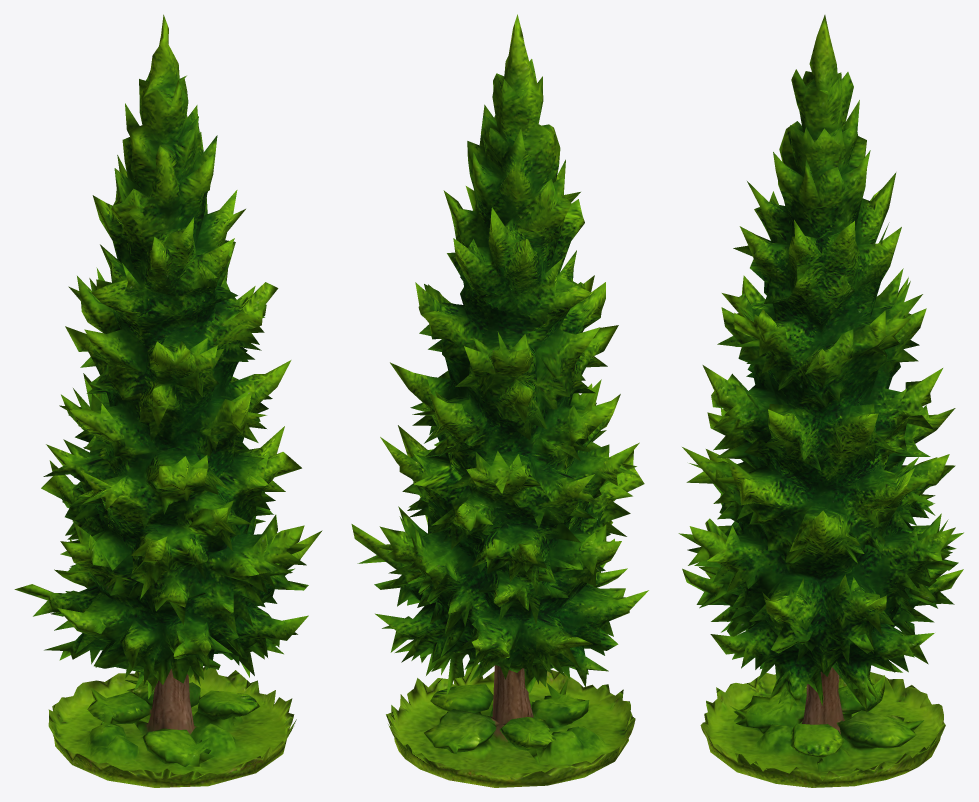
File: roadsidesharptree.glb
3 renders of one model, left to right at view 1: azimuth 30°, elevation 25°; view 2: azimuth 150°, elevation 25°; view 3: azimuth 270°, elevation 25°, orthographic.
Visible parts, largest first — view 1: tripo_node_1987e0e3-b7dc-4436-a825-5527ffc365ff; view 2: tripo_node_1987e0e3-b7dc-4436-a825-5527ffc365ff; view 3: tripo_node_1987e0e3-b7dc-4436-a825-5527ffc365ff.
Part boxes in pixels (<box>): tripo_node_1987e0e3-b7dc-4436-a825-5527ffc365ff: <box>14,14,322,787</box>; tripo_node_1987e0e3-b7dc-4436-a825-5527ffc365ff: <box>351,14,648,787</box>; tripo_node_1987e0e3-b7dc-4436-a825-5527ffc365ff: <box>678,15,963,787</box>.
Bounding box in the file's own units: 0.3653 × 1 × 0.3591.
1 material, 1 textured.
